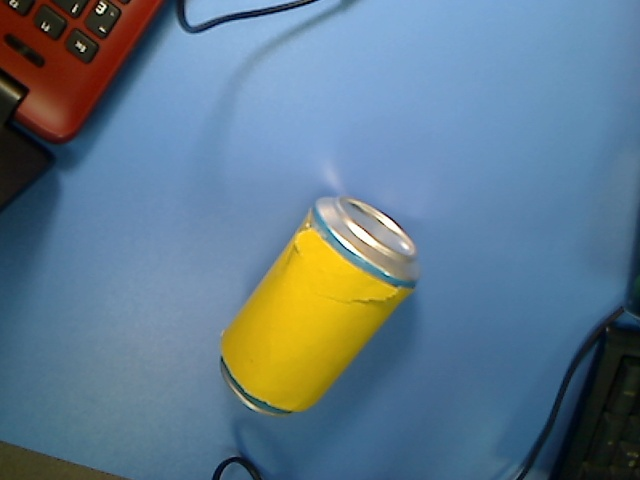can: (217, 194, 422, 421)
